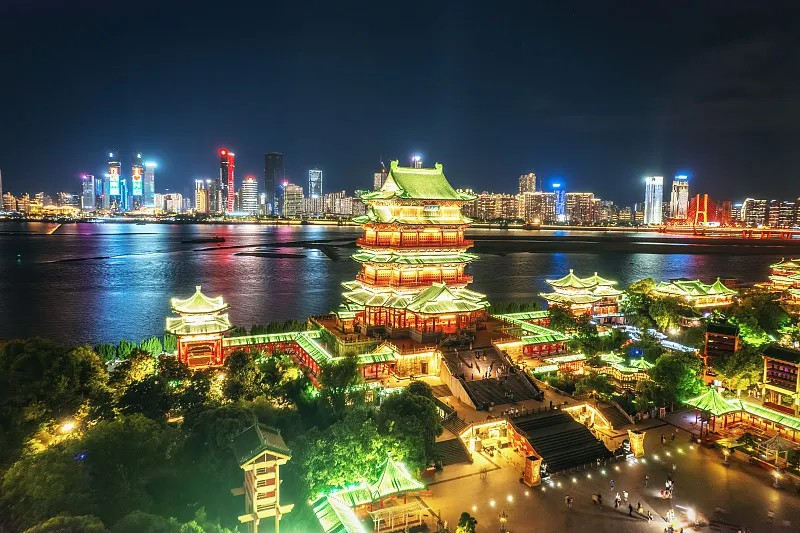Teng: (330, 158, 490, 334)
